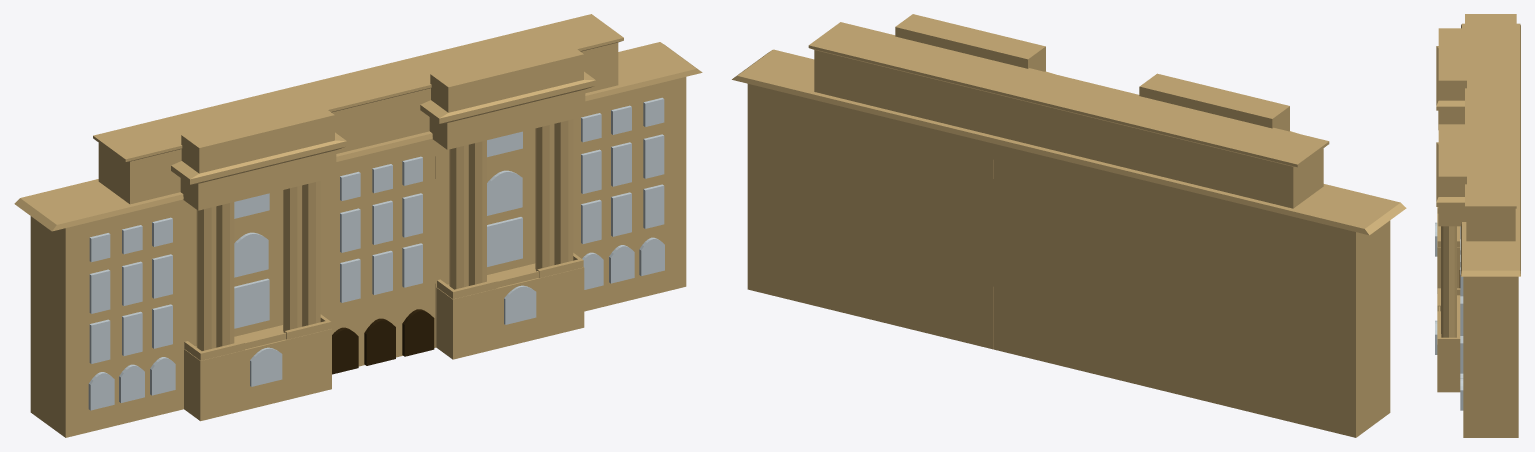
File: AntonioCenarioFase1.fbx_CCBB.fbx
The picture shows the model from 3 angles, left to right: view 1: azimuth 30°, elevation 25°; view 2: azimuth 150°, elevation 25°; view 3: azimuth 270°, elevation 25°; orthographic projection. The views are drawn at different scales.
Parts seen in each view (by area): view 1: CCBB; view 2: CCBB; view 3: CCBB.
Part boxes in pixels (x1,y1,x2,y2): CCBB: [14, 14, 702, 437]; CCBB: [732, 14, 1406, 437]; CCBB: [1435, 14, 1520, 437].
Bounding box in the file's own units: 3898 × 1560 × 563.
